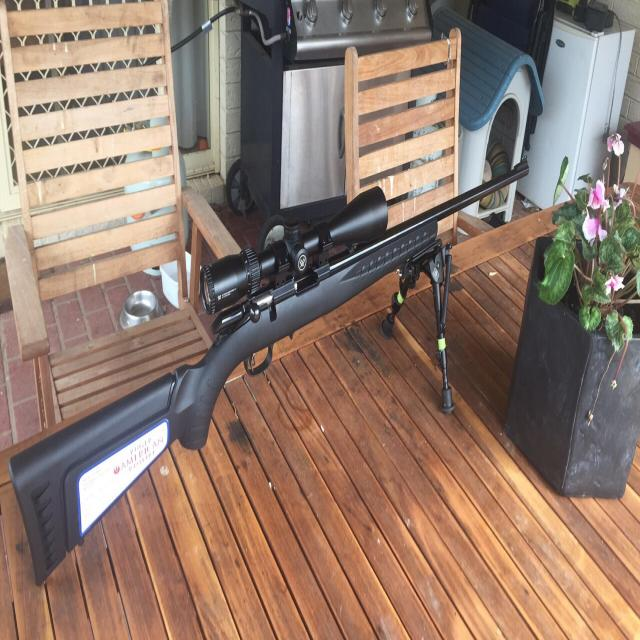gun: (5, 147, 531, 590)
